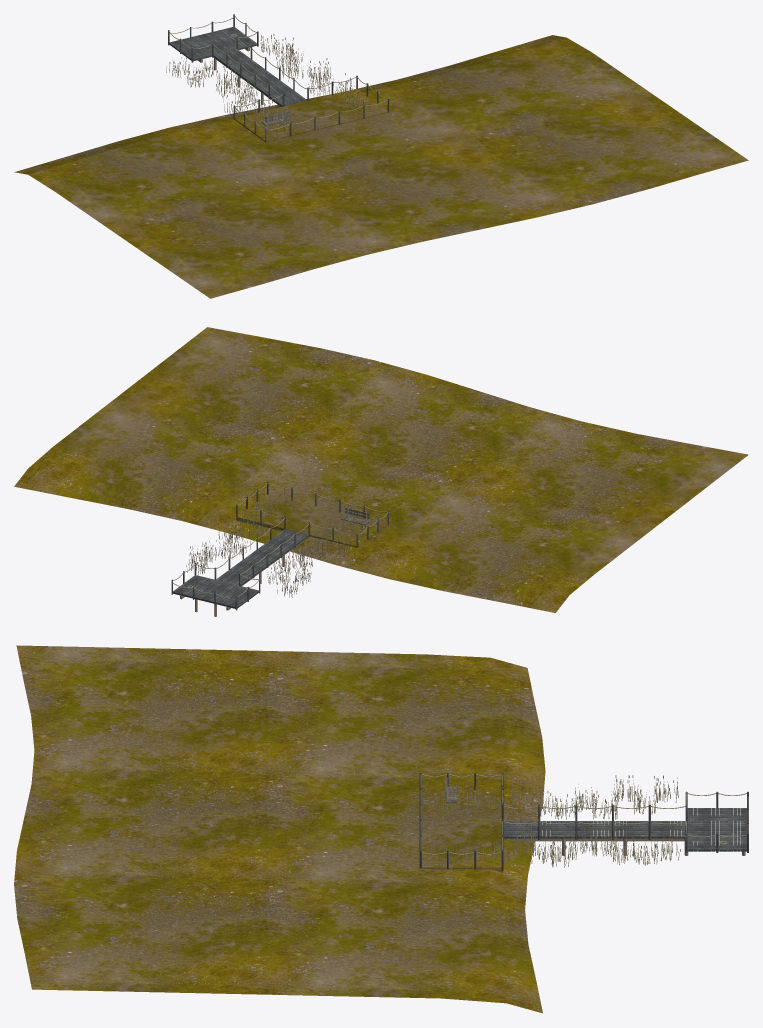
File: gray_pier.glb
3 renders of one model, top to bottom at view 1: azimuth 30°, elevation 25°; view 2: azimuth 150°, elevation 25°; view 3: azimuth 270°, elevation 25°, orthographic. The views are drawn at different scales.
Visible parts, largest first — view 1: gray_pier_BakedForeground, gray_pier_reed, gray_pier_rope; view 2: gray_pier_BakedForeground, gray_pier_reed, gray_pier_rope; view 3: gray_pier_BakedForeground, gray_pier_reed, gray_pier_rope.
Part boxes in pixels (x1,y1,x2,y2): gray_pier_BakedForeground: (14,14,748,298); gray_pier_reed: (166,37,370,133); gray_pier_rope: (169,15,387,129); gray_pier_BakedForeground: (14,327,748,616); gray_pier_reed: (187,494,363,597); gray_pier_rope: (173,482,388,598); gray_pier_BakedForeground: (14,645,748,1013); gray_pier_reed: (428,777,679,867); gray_pier_rope: (420,774,748,854).
Size of what is drawn, in the model's own units: 40 by 2.17 by 35.95.
7 materials, 3 textured.
